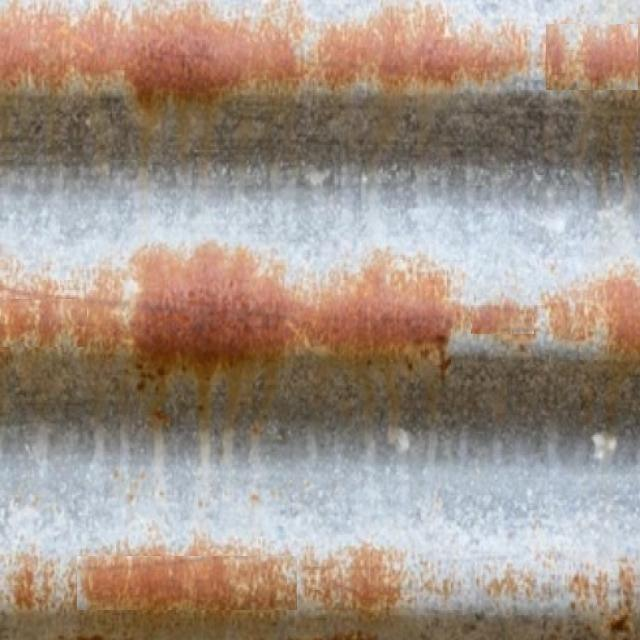Corrosion: (0, 0, 640, 102), (130, 243, 456, 374), (78, 545, 409, 616), (457, 277, 640, 354), (0, 258, 129, 352)
